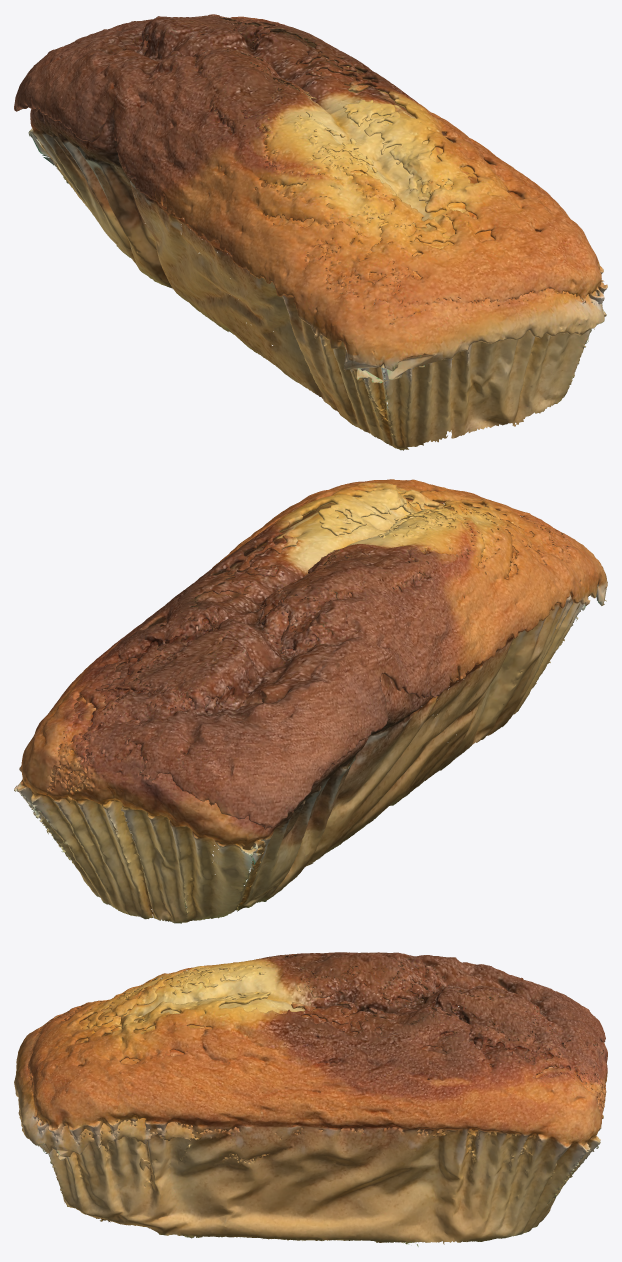
File: metashape_dish2_m.glb
3 views of the same model, one above another, from view 1: azimuth 30°, elevation 25°; view 2: azimuth 150°, elevation 25°; view 3: azimuth 270°, elevation 25° (orthographic). The views are drawn at different scales.
Bounding box in the file's own units: 0.1865 × 0.1686 × 0.4.
Materials: 1 (1 with a texture image).
